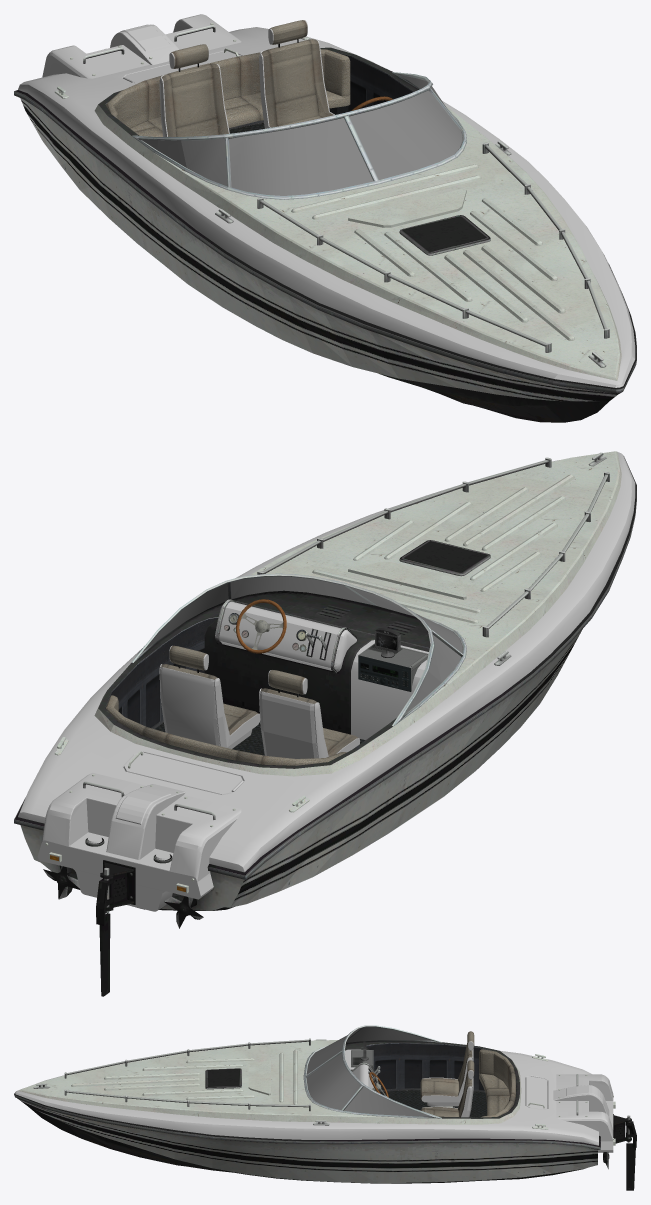
The model's file is Boat.obj.
3 renders of one model, top to bottom at view 1: azimuth 30°, elevation 25°; view 2: azimuth 150°, elevation 25°; view 3: azimuth 270°, elevation 25°, orthographic. The views are drawn at different scales.
Parts seen in each view (by area): view 1: GRAY, Boat, Material43, GLASS1, Material45, CHROME, Material49; view 2: Material43, Boat, GRAY, CHROME, Material45, GLASS1, Material49, HUD; view 3: Boat, Material43, GRAY, GLASS1, Material49, Material45, CHROME, Material47, HUD, CHROME2.
Part boxes in pixels (x1,y1,x2,y2): GRAY: (94,104,621,380); Boat: (14,47,636,422); Material43: (18,14,635,387); GLASS1: (140,75,462,195); Material45: (105,20,350,136); CHROME: (83,25,609,367); Material49: (105,51,413,129); Material43: (18,452,635,911); Boat: (14,456,636,996); GRAY: (94,451,621,776); CHROME: (83,452,609,863); Material45: (106,645,357,765); GLASS1: (143,576,462,713); Material49: (105,617,218,728); HUD: (358,643,428,691); Boat: (14,1041,636,1190); Material43: (15,1031,613,1152); GRAY: (18,1040,521,1124); GLASS1: (306,1027,431,1116); Material49: (361,1043,490,1092); Material45: (420,1031,515,1117); CHROME: (33,1025,578,1125); Material47: (380,1090,486,1117); HUD: (351,1050,373,1070); CHROME2: (369,1054,615,1145).
Bounding box in the file's own units: 105 × 76.3 × 306.
